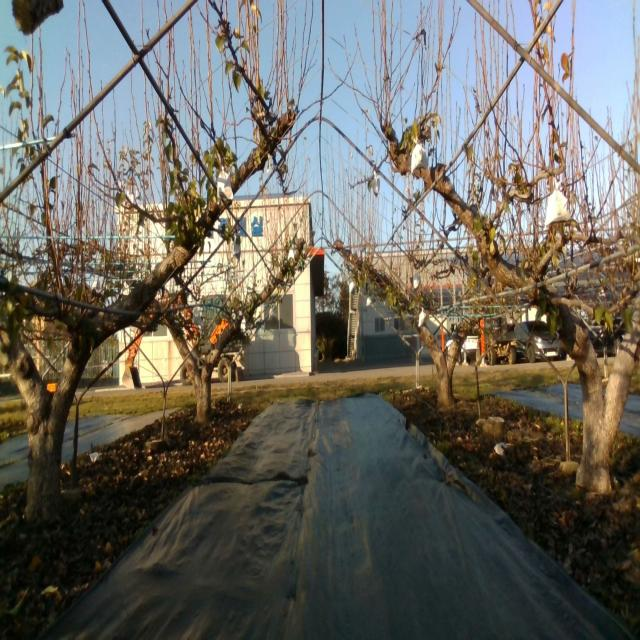pearbags: (546, 183, 570, 224), (410, 133, 429, 173), (216, 166, 234, 207), (192, 308, 203, 326)
